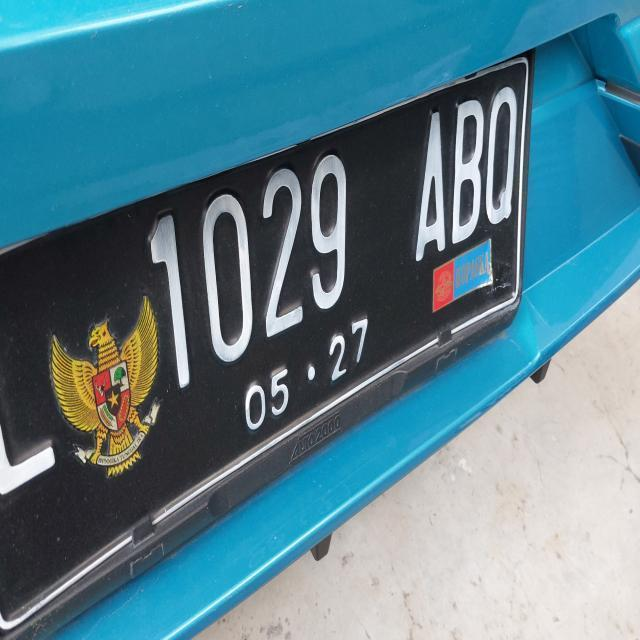0: (200, 186, 260, 372)
1: (144, 201, 200, 392)
2: (258, 156, 310, 341)
9: (306, 145, 353, 313)
A: (411, 98, 452, 272)
B: (446, 89, 488, 249)
Q: (482, 72, 524, 236)
